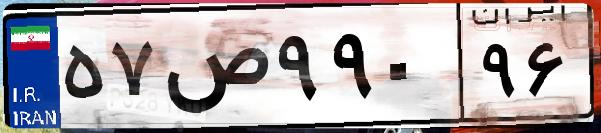0: (385, 28, 445, 110)
5: (57, 26, 110, 100)
6: (525, 38, 570, 115)
7: (110, 28, 158, 98)
9: (270, 28, 330, 110), (330, 28, 385, 110), (475, 38, 525, 113)
ص: (158, 20, 270, 120)
